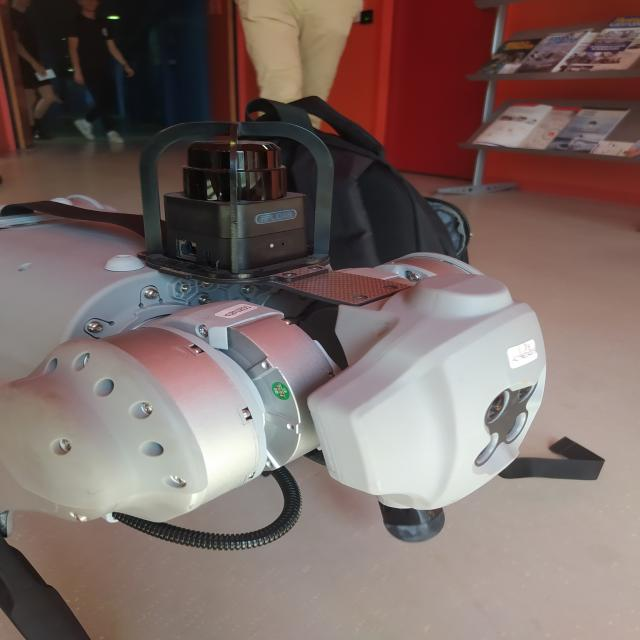unitree-go1-robot: (1, 102, 558, 640)
